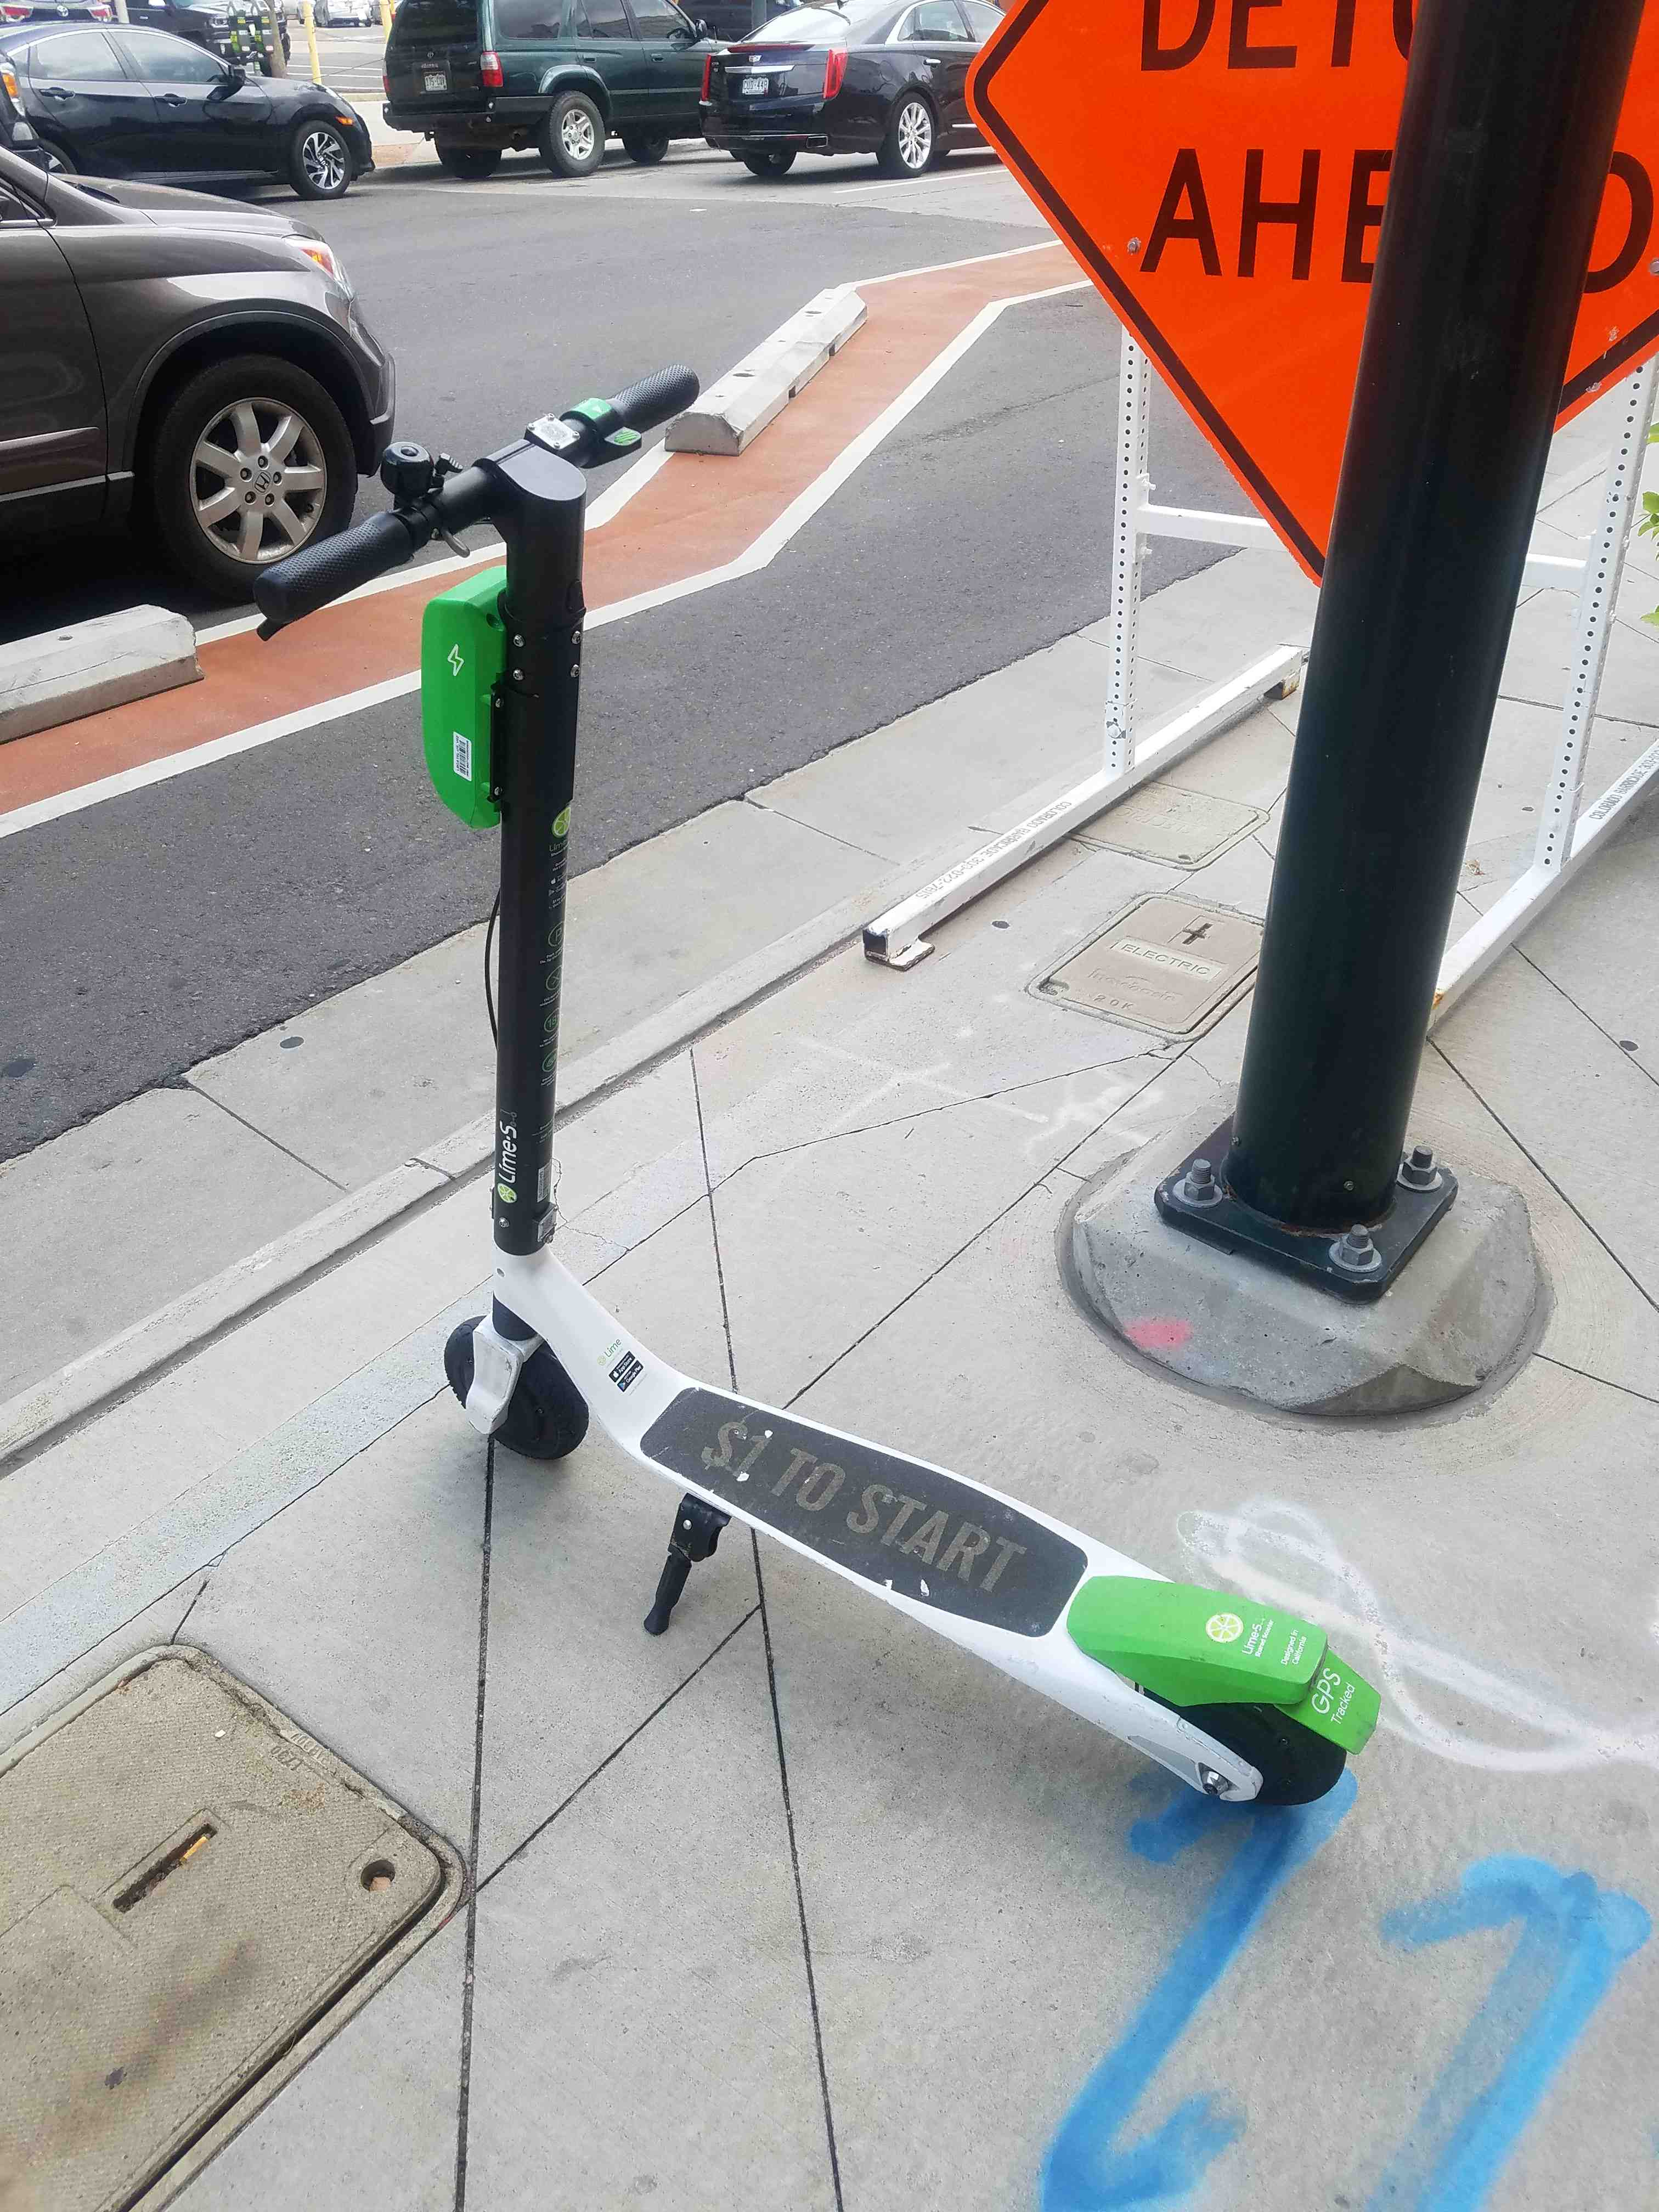scooter: (192, 355, 1429, 1817)
